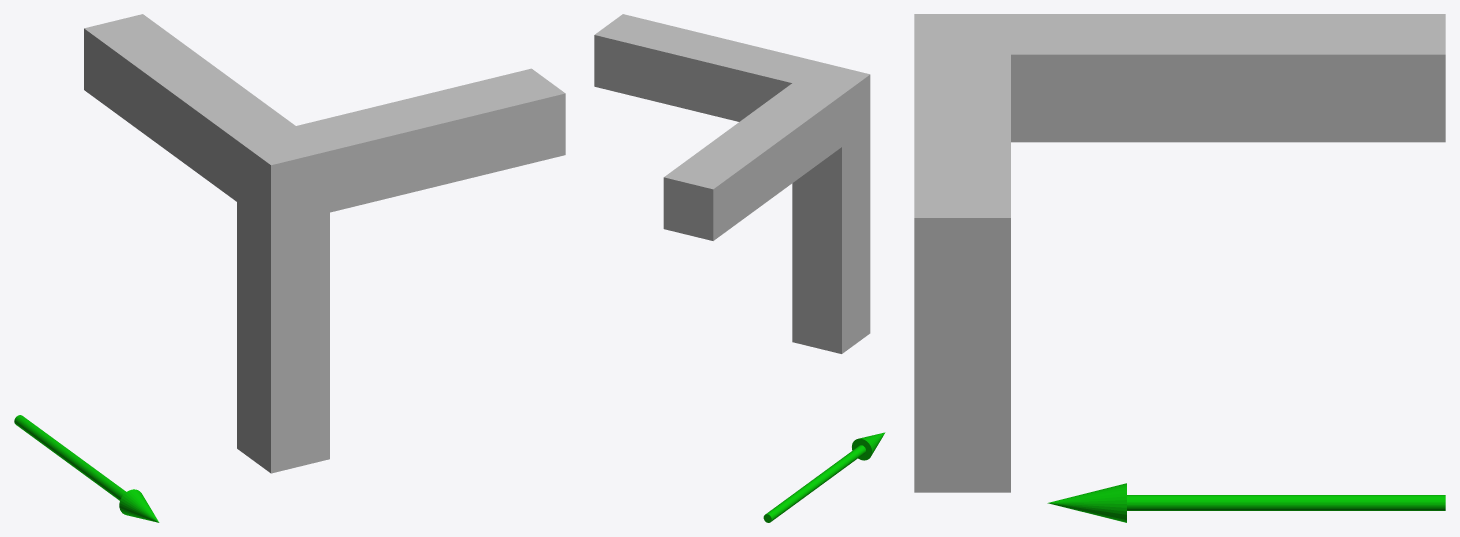
Rendered from out_triple_dfs.glb.
3 renders of one model, left to right at view 1: azimuth 30°, elevation 25°; view 2: azimuth 150°, elevation 25°; view 3: azimuth 270°, elevation 25°, orthographic. The views are drawn at different scales.
Visible parts, largest first — view 1: source_mesh, up_arrow; view 2: source_mesh, up_arrow; view 3: source_mesh, up_arrow.
Part boxes in pixels (x1,y1,x2,y2): source_mesh: (84,14,565,473); up_arrow: (14,415,159,522); source_mesh: (594,14,870,353); up_arrow: (763,432,885,522); source_mesh: (914,14,1445,492); up_arrow: (1047,483,1445,522).
Bounding box in the file's own units: 25.22 × 25.23 × 22.
